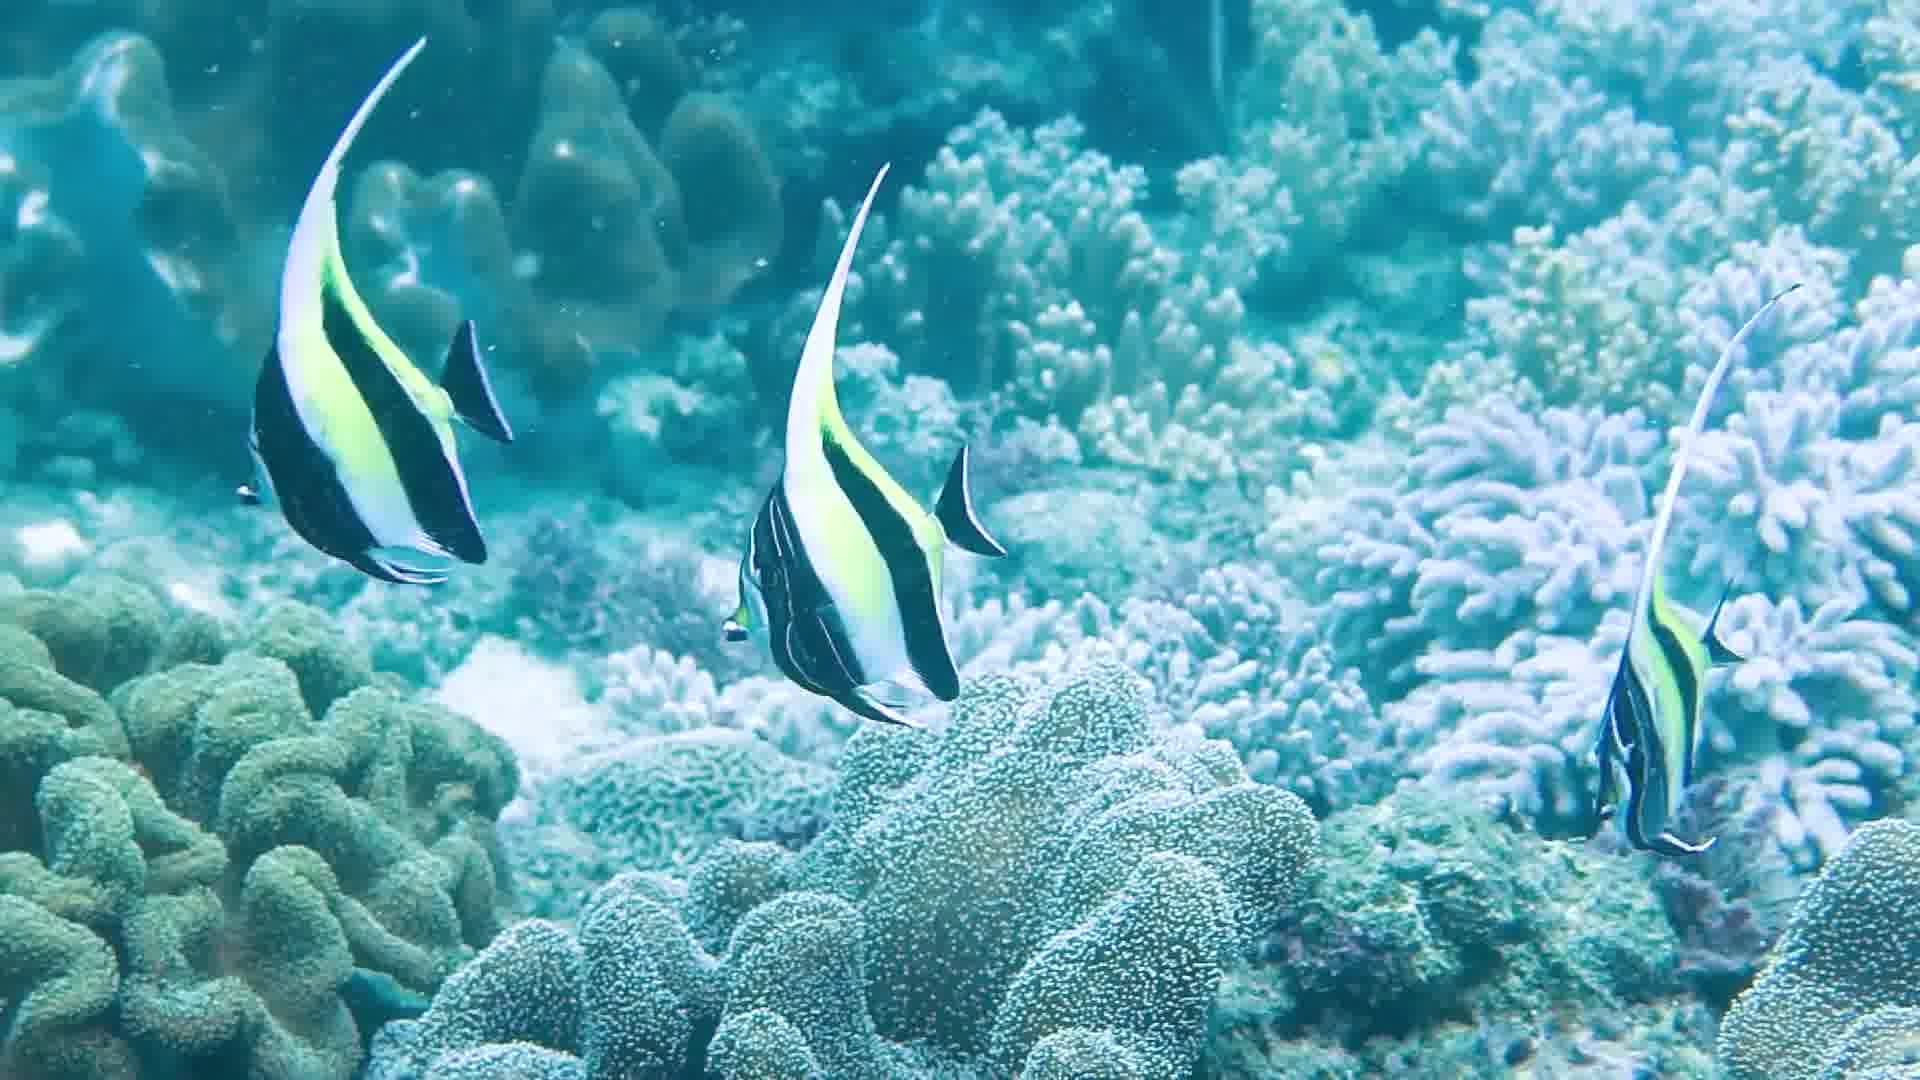Zanclus cornutus: (702, 342, 997, 746), (225, 214, 498, 593)
